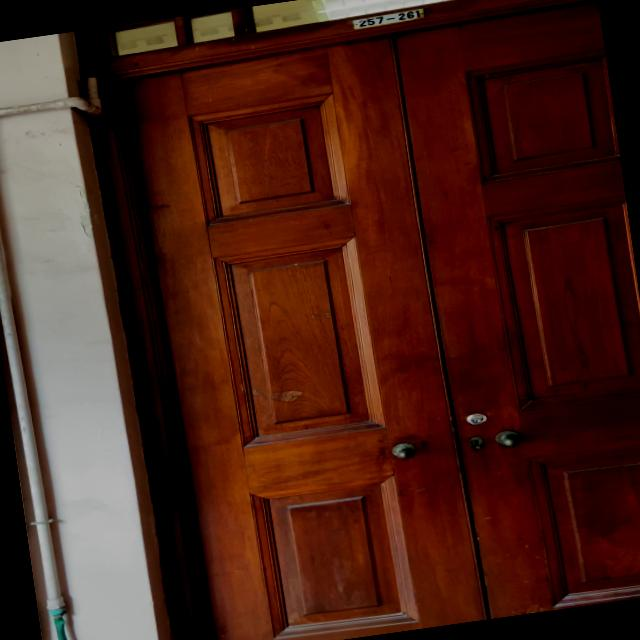room257: (345, 6, 432, 32)
room257door: (80, 0, 640, 640)
